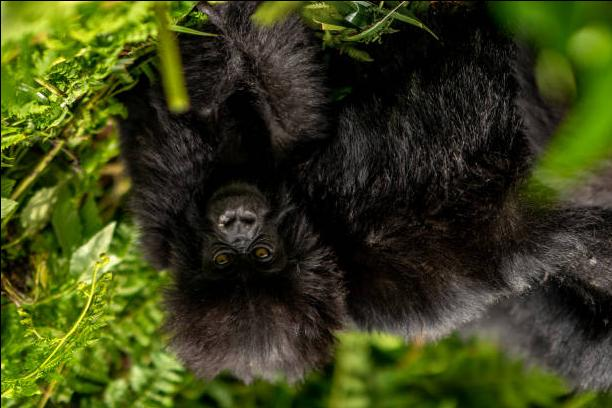goriile_montagne: (56, 23, 408, 406)
